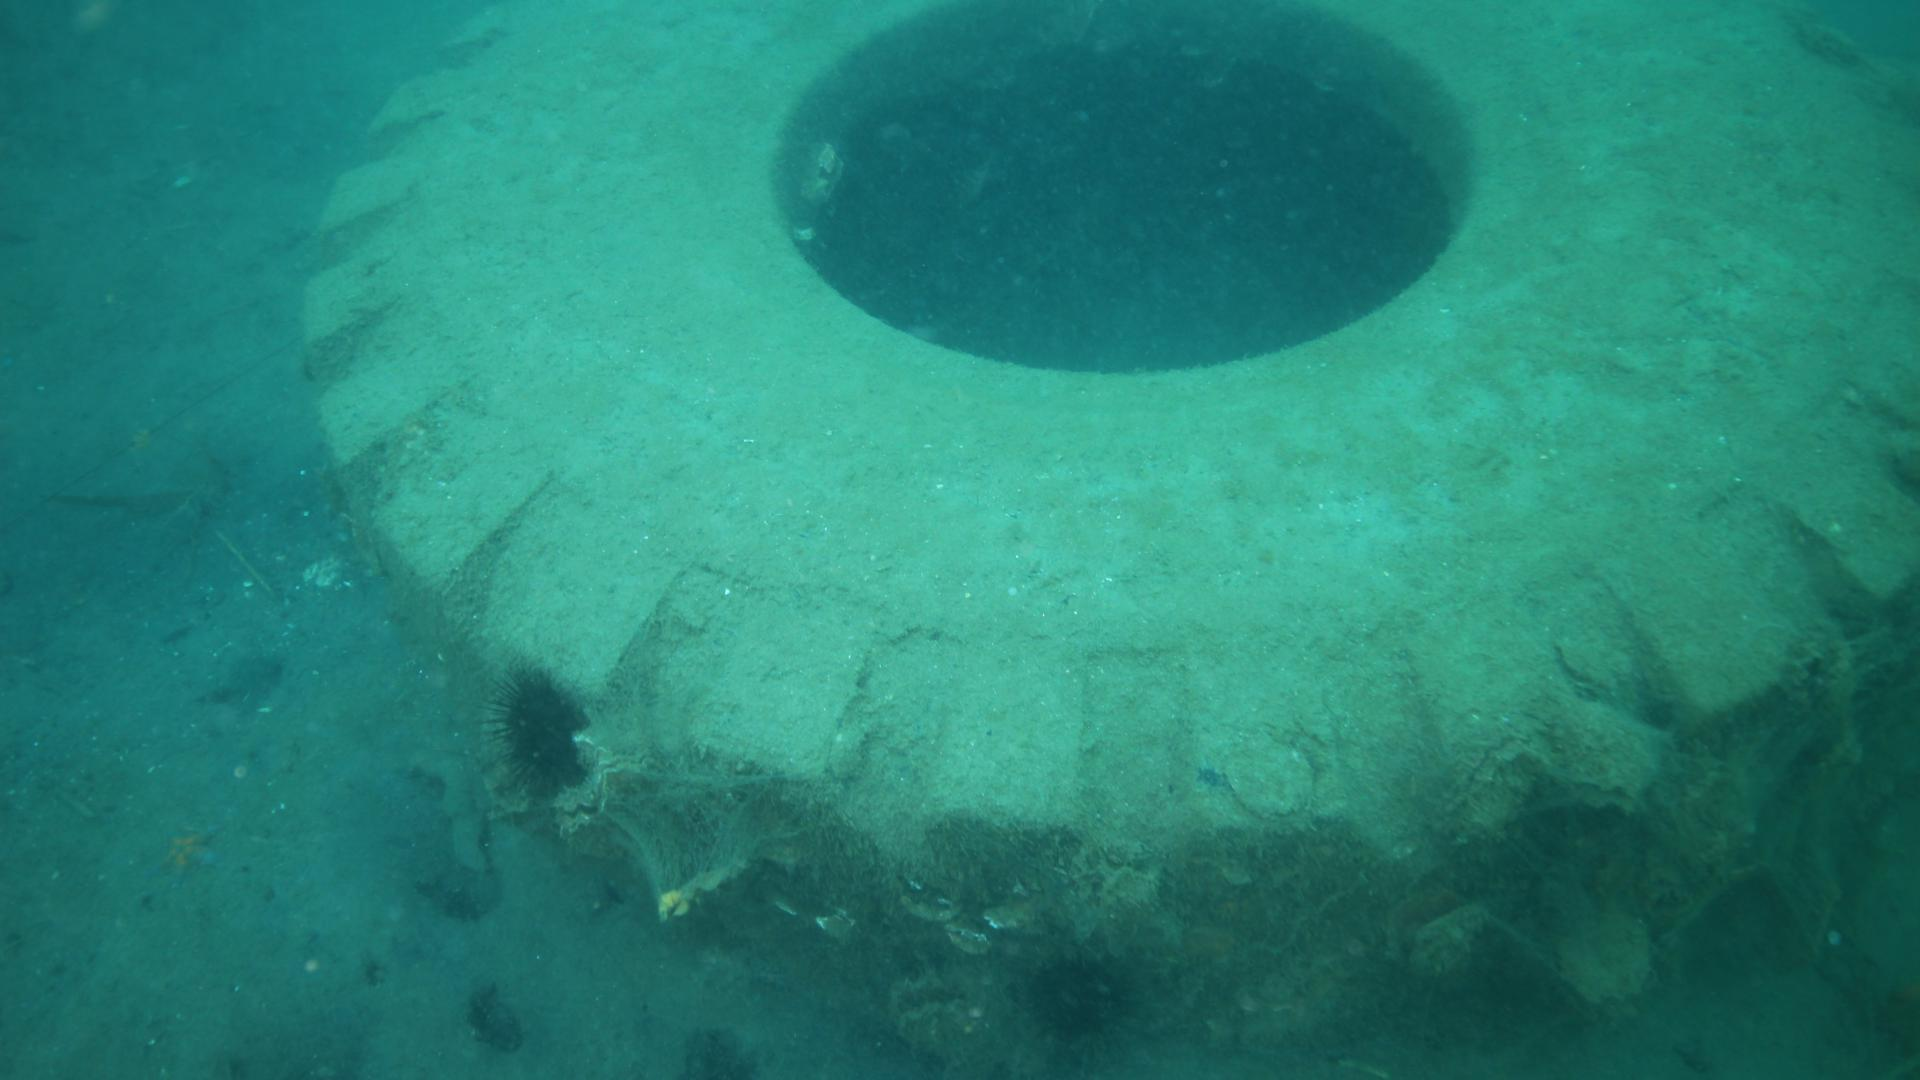tire: (302, 0, 1920, 1072)
